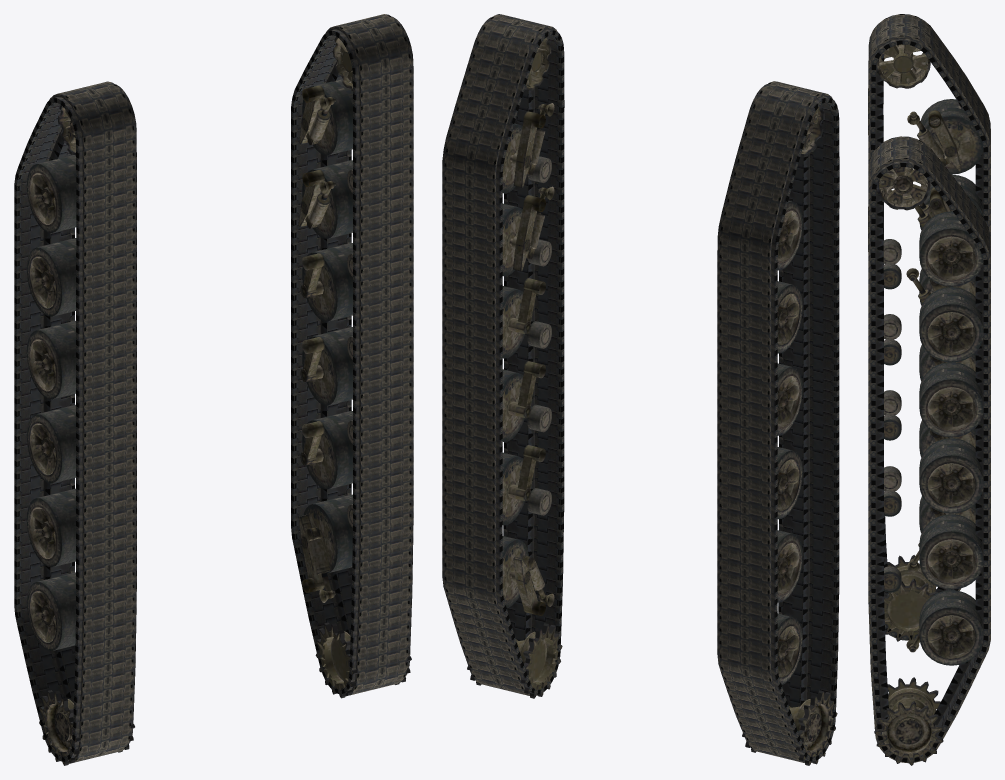
The model's file is Chassis.glb.
The picture shows the model from 3 angles, left to right: view 1: azimuth 30°, elevation 25°; view 2: azimuth 150°, elevation 25°; view 3: azimuth 270°, elevation 25°; orthographic projection. The views are drawn at different scales.
Visible parts, largest first — view 1: set_0_group_0, set_1_group_0, set_3_group_0, set_2_group_0; view 2: set_0_group_0, set_1_group_0, set_3_group_0, set_2_group_0; view 3: set_3_group_0, set_1_group_0, set_2_group_0, set_0_group_0.
Part boxes in pixels (x1,y1,x2,y2): set_0_group_0: (14,81,136,763); set_1_group_0: (291,14,413,696); set_3_group_0: (298,36,411,698); set_2_group_0: (26,105,134,765); set_0_group_0: (717,81,839,762); set_1_group_0: (442,14,564,695); set_3_group_0: (467,36,562,698); set_2_group_0: (742,104,837,765); set_3_group_0: (874,167,983,765); set_1_group_0: (868,136,990,763); set_2_group_0: (876,44,983,641); set_0_group_0: (868,14,990,640).
Size of the model in its own units: 3.34 by 6.37 by 1.17.
Materials: 4 (4 with a texture image).
